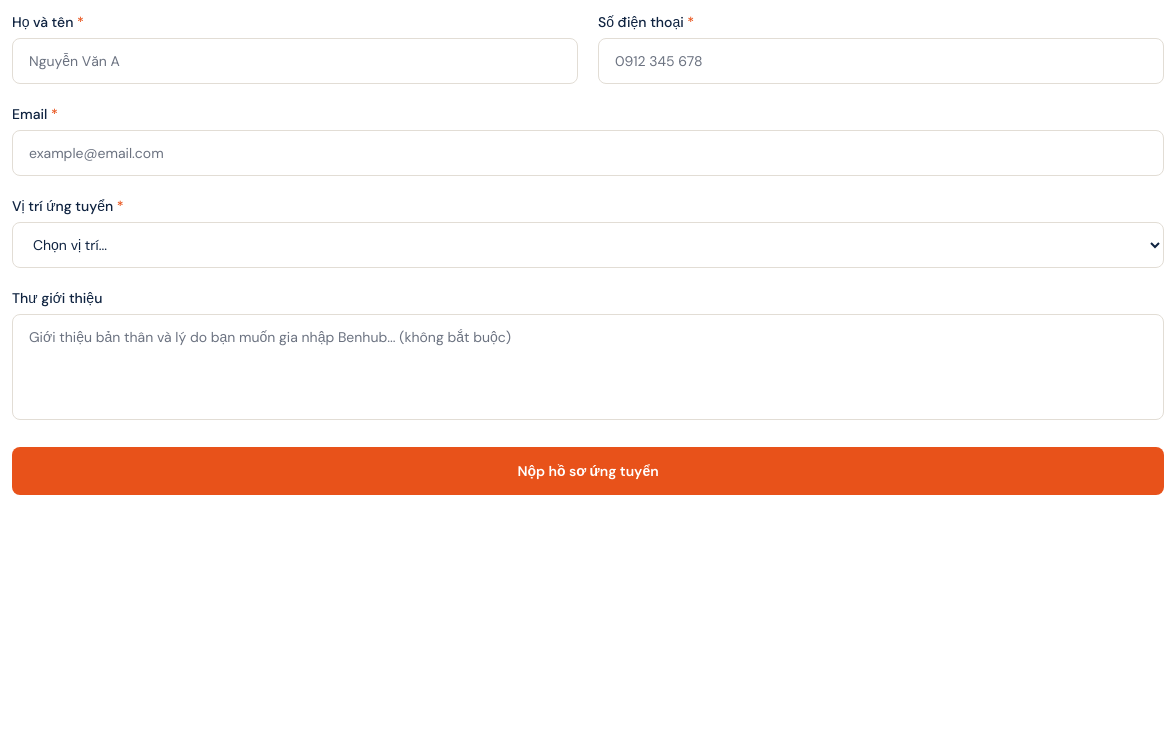
Test: JobApplyForm — validation › shows error for invalid email
In the field labelled "Email *": coordinates (588, 153) [12,130,1164,176], type "not-valid-email"
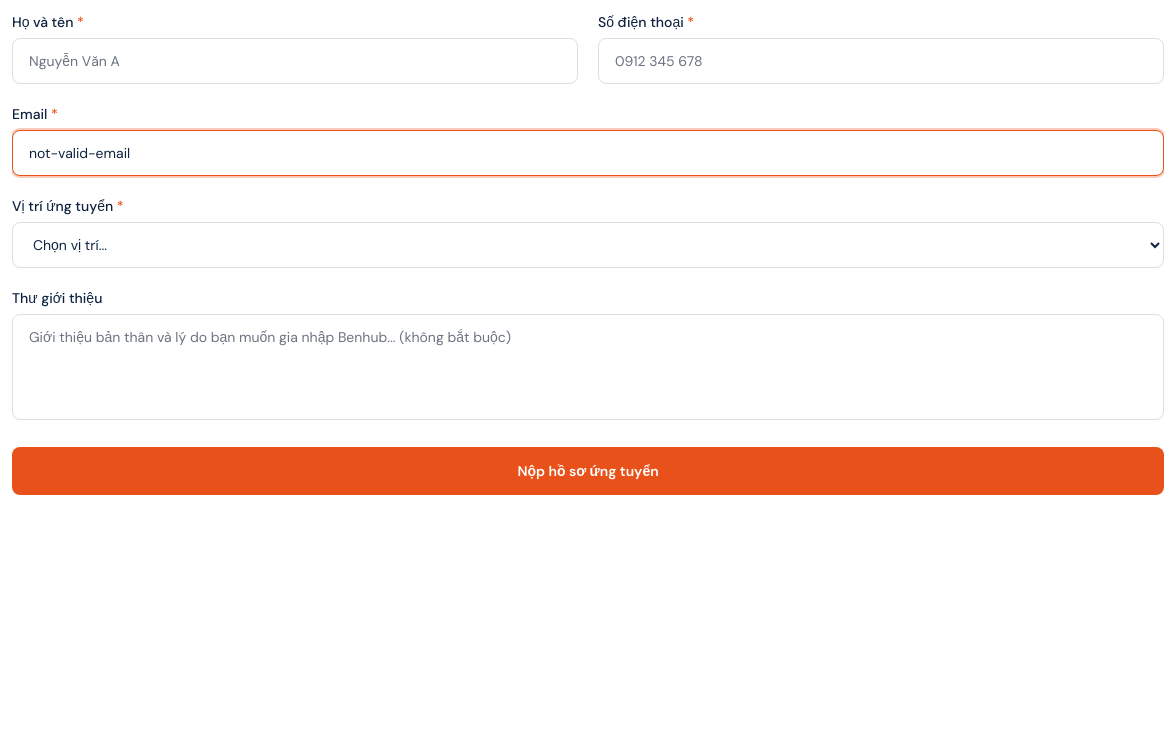
Click the button "Nộp hồ sơ ứng tuyển": coordinates (588, 471) [12,447,1164,495]
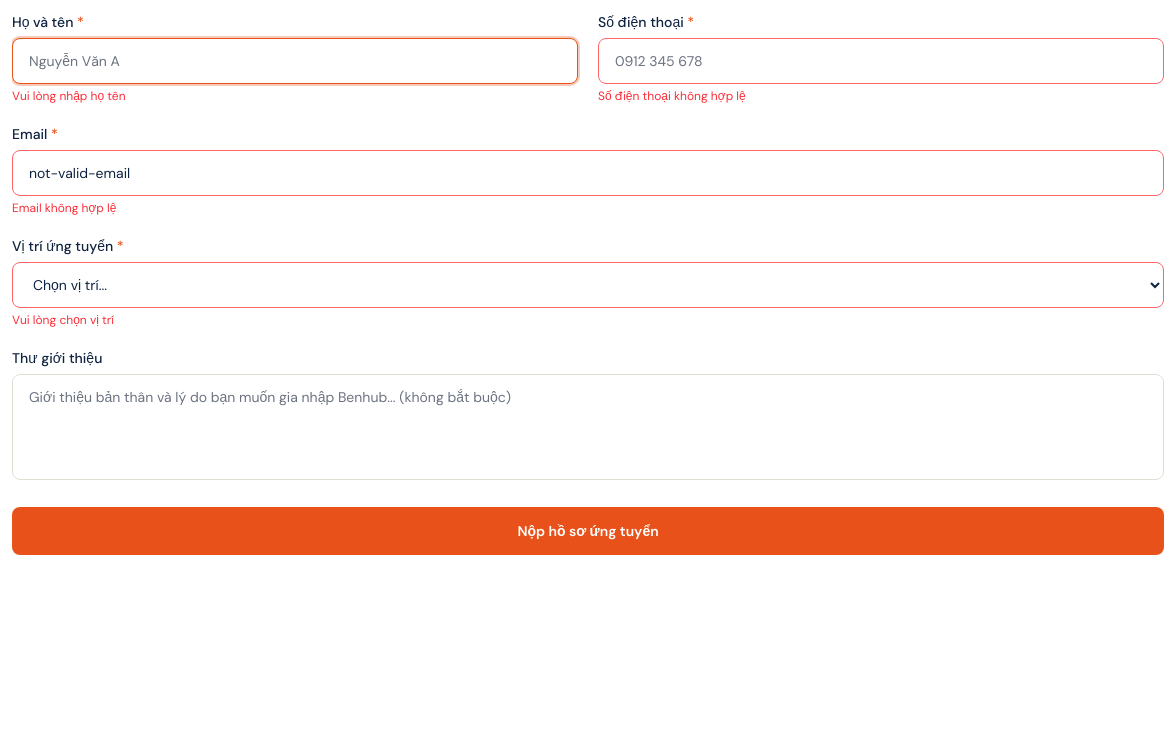
Check: the text "Email không hợp lệ" is shown, box [12,200,116,216]
